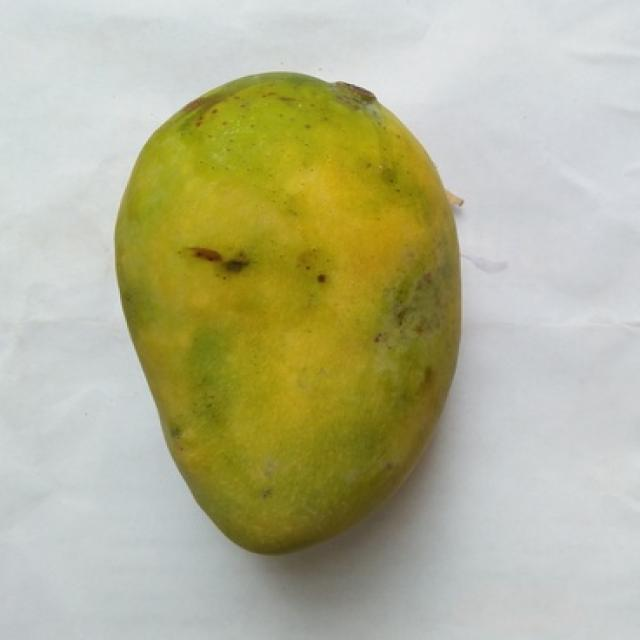Mango: (115, 73, 459, 552)
